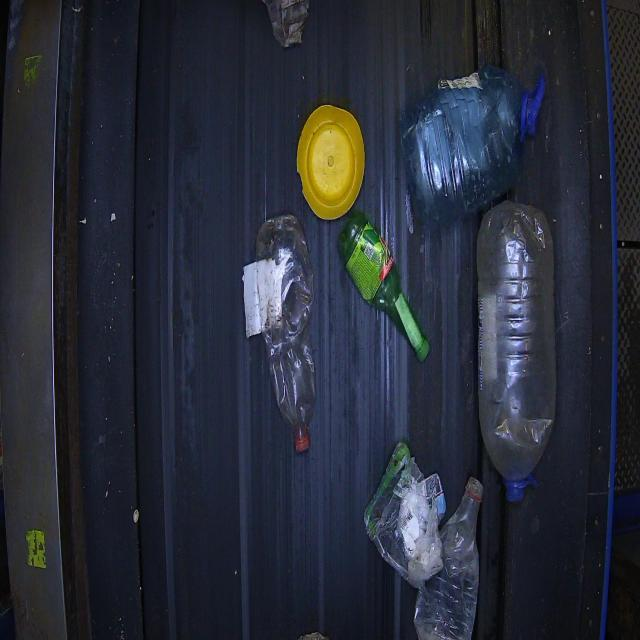cardboard: (2, 0, 629, 639)
cups: (475, 199, 557, 502), (400, 63, 543, 224), (241, 213, 316, 453), (337, 210, 431, 363), (295, 103, 365, 220)
